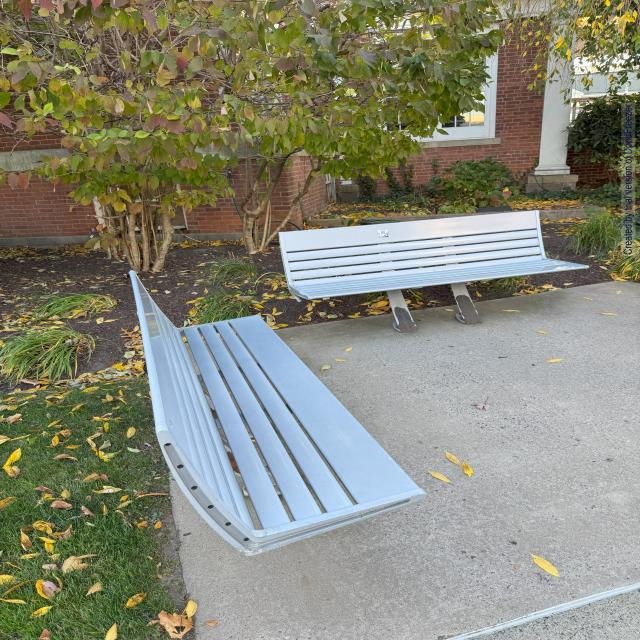chair: (118, 270, 427, 571), (259, 199, 603, 321)
